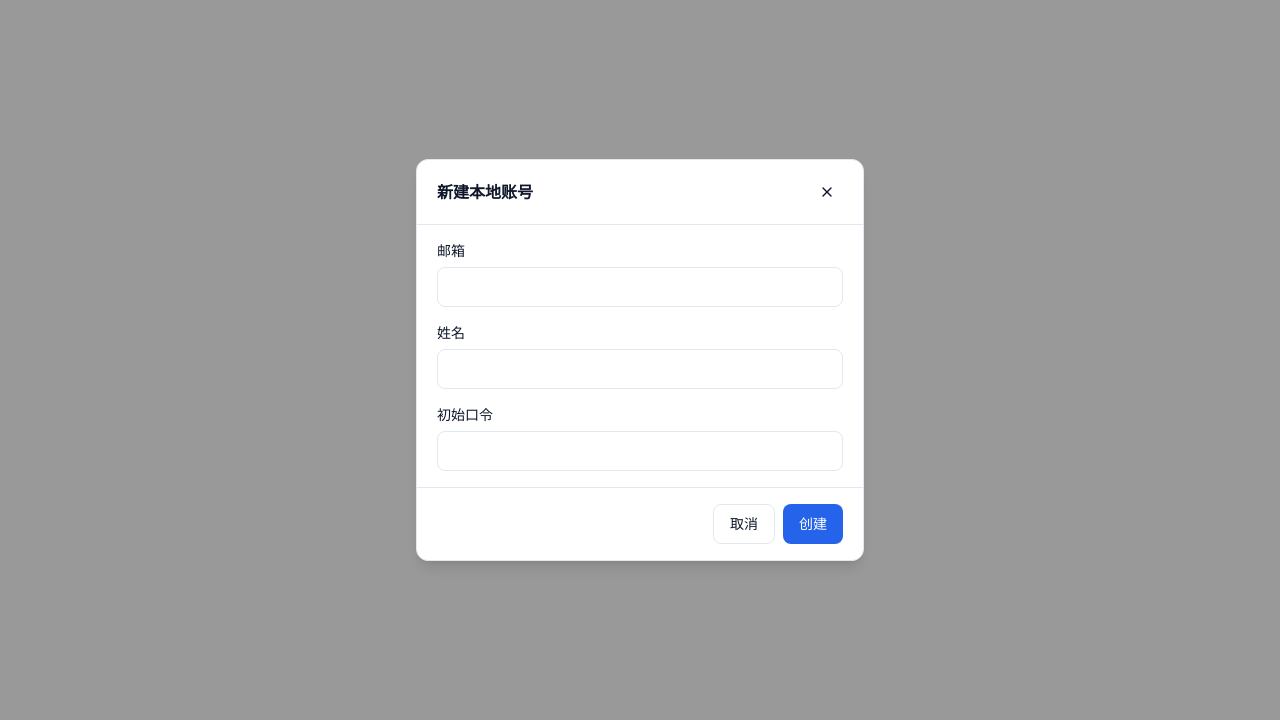
Test: CreateMemberDialog › echoes a rejected initial password at the password field
Type "new@acme.com" into the field labelled "邮箱" at (640, 287), box top-left (437, 267), bottom-right (843, 307)
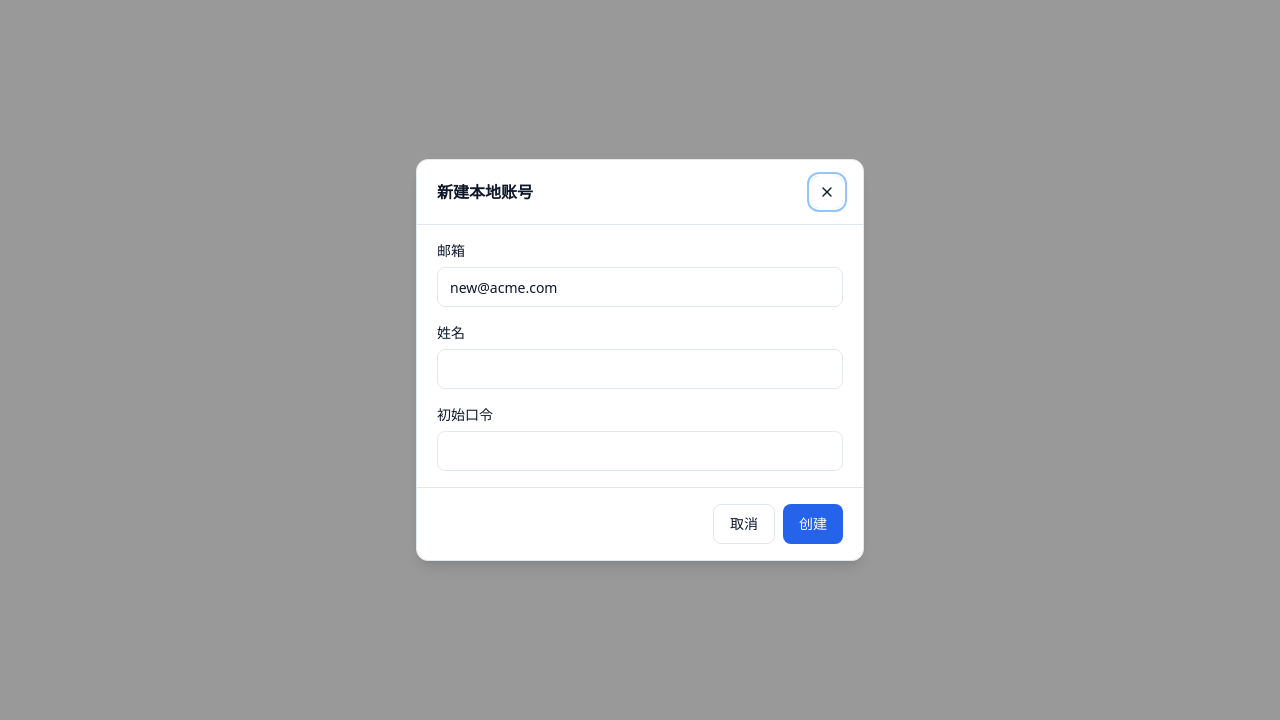
Type "New" into the field labelled "姓名" at (640, 369), box top-left (437, 349), bottom-right (843, 389)
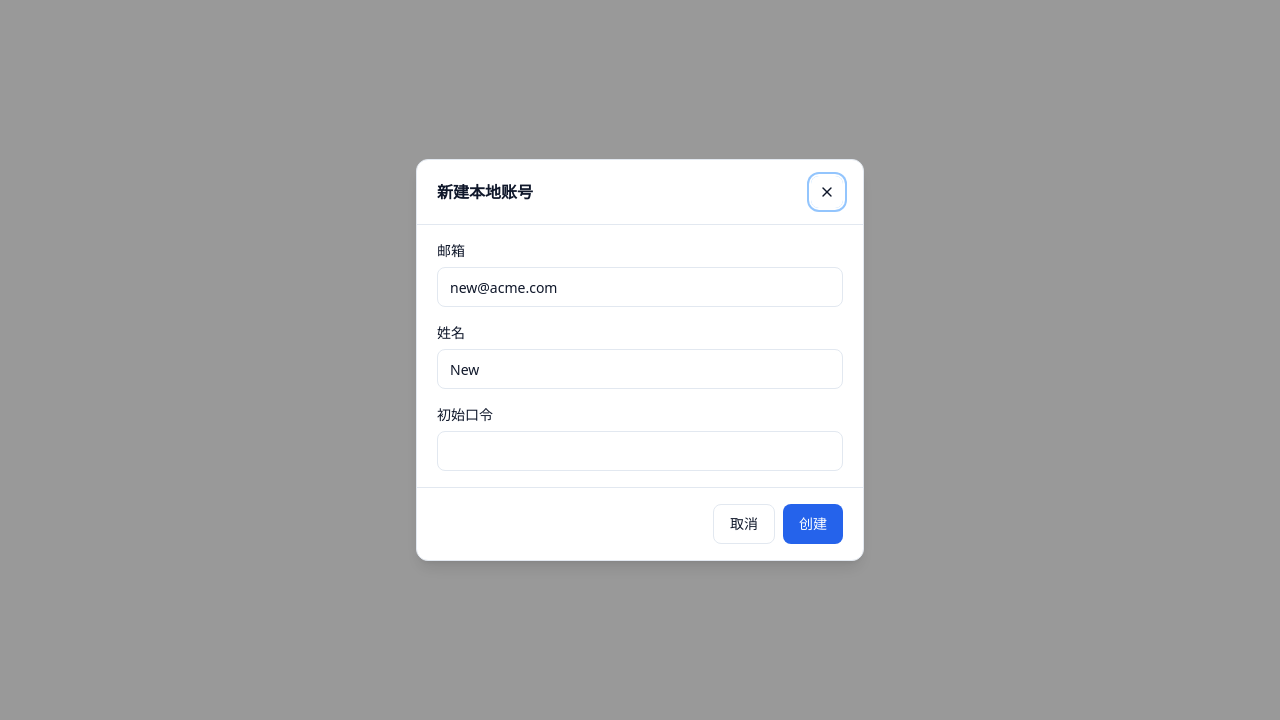
Type "1234567" into the password field labelled "初始口令" at (640, 451), box top-left (437, 431), bottom-right (843, 471)
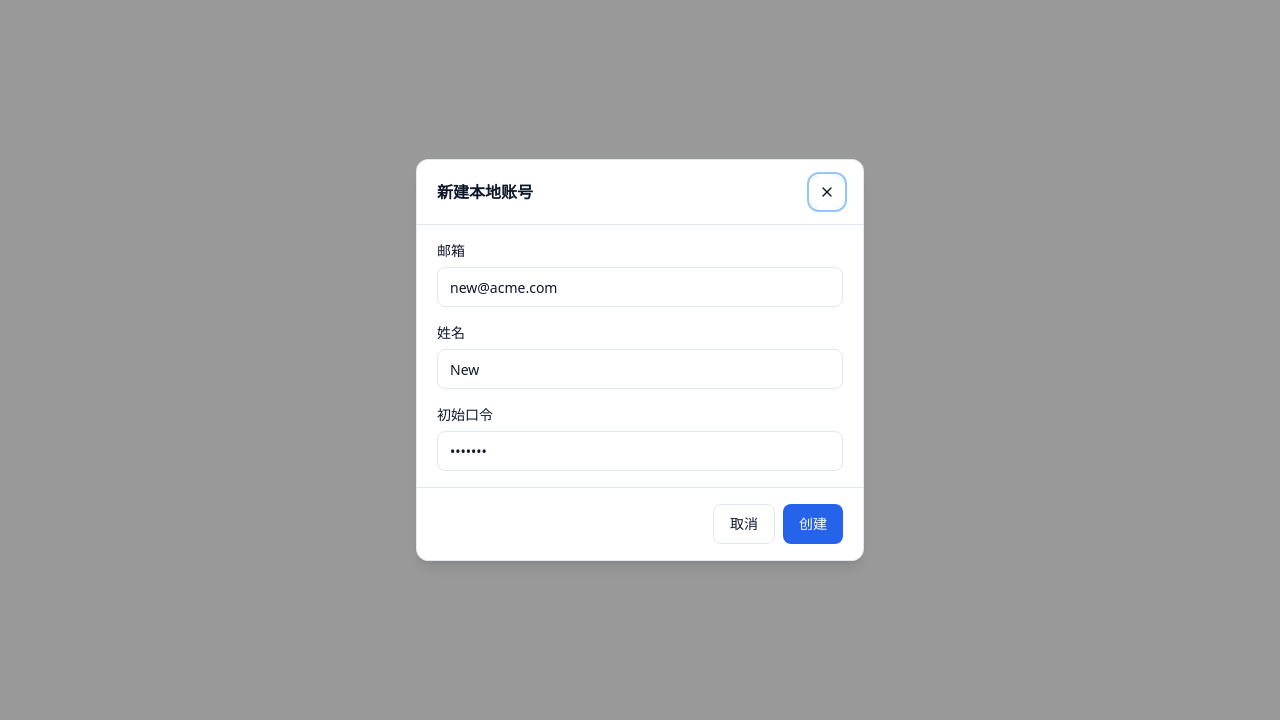
Click the button "创建" at (813, 524), box top-left (783, 504), bottom-right (843, 544)
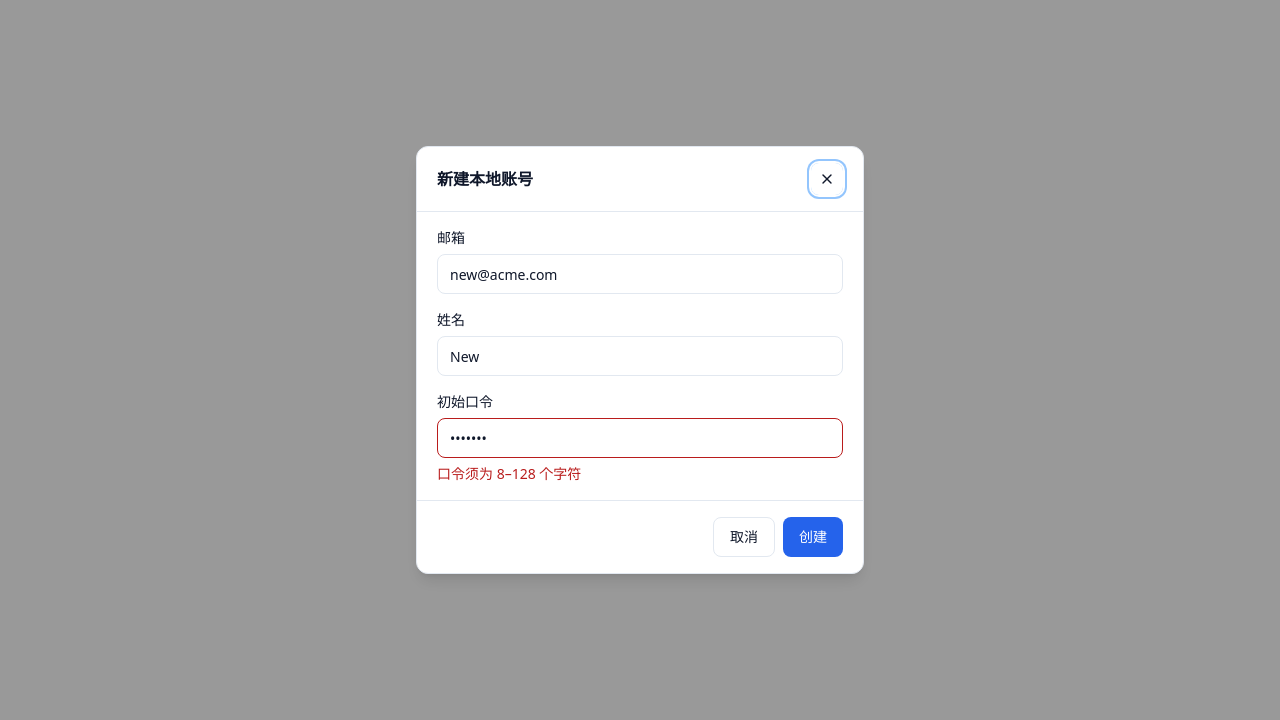
Check: the text "口令须为 8–128 个字符" is shown, box top-left (437, 464), bottom-right (581, 483)
